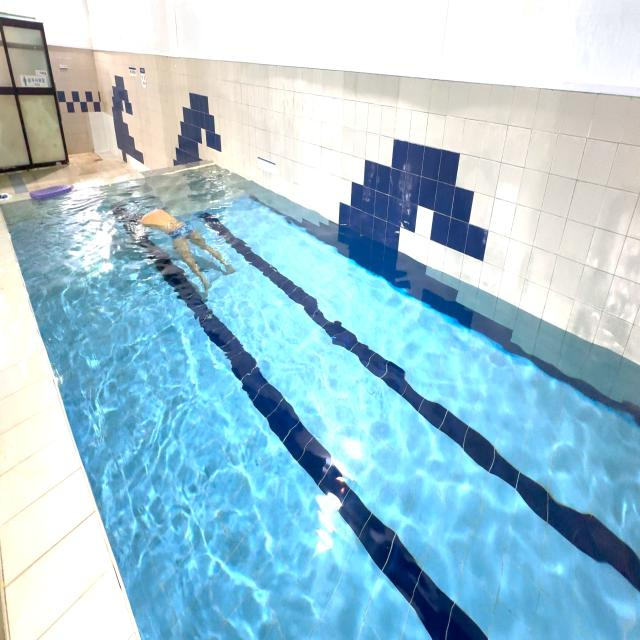Drowning: (122, 190, 235, 311)
